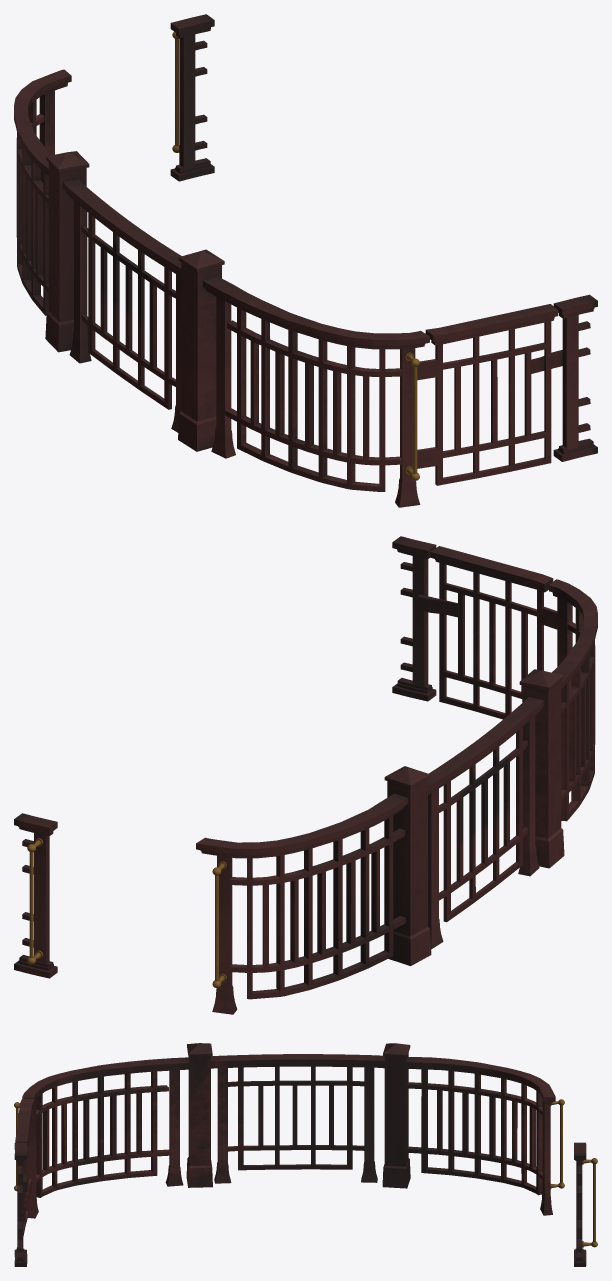
Rendered from SM_Fence.fbx.
The picture shows the model from 3 angles, top to bottom: view 1: azimuth 30°, elevation 25°; view 2: azimuth 150°, elevation 25°; view 3: azimuth 270°, elevation 25°; orthographic projection. The views are drawn at different scales.
Visible parts, largest first — view 1: SM_Fence; view 2: SM_Fence; view 3: SM_Fence.
Part boxes in pixels (left/top/right/bottom): SM_Fence: left=14, top=14, right=597, bottom=507; SM_Fence: left=14, top=536, right=597, bottom=1014; SM_Fence: left=14, top=1043, right=597, bottom=1266.
Size of the model in its own units: 142 by 345 by 90.83.
1 material, 1 textured.
